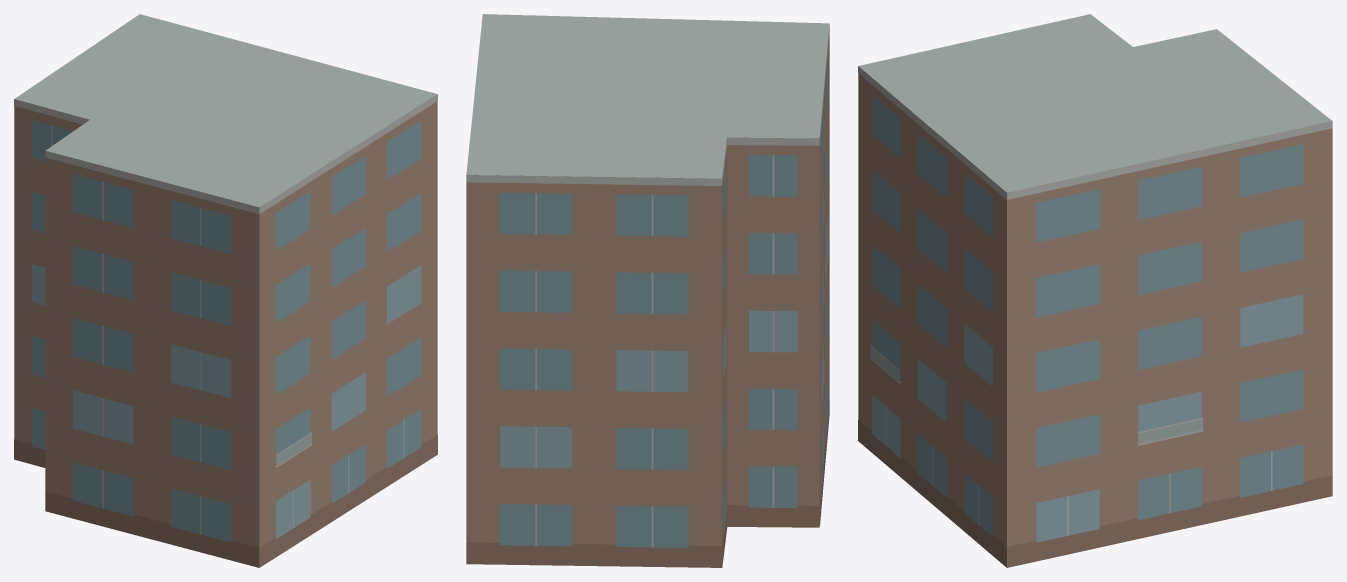
File: survey-upis-32710317.glb
The picture shows the model from 3 angles, left to right: view 1: azimuth 30°, elevation 25°; view 2: azimuth 150°, elevation 25°; view 3: azimuth 270°, elevation 25°; orthographic projection. The views are drawn at different scales.
Parts seen in each view (by area): view 1: survey-upis-32710317.tmp; view 2: survey-upis-32710317.tmp; view 3: survey-upis-32710317.tmp.
Boxes of the visible parts, x1,y1,x2,y2 form: survey-upis-32710317.tmp: (14,14,437,567); survey-upis-32710317.tmp: (466,14,829,567); survey-upis-32710317.tmp: (858,14,1332,567).
Bounding box in the file's own units: 13.1 × 12.8 × 14.68.
